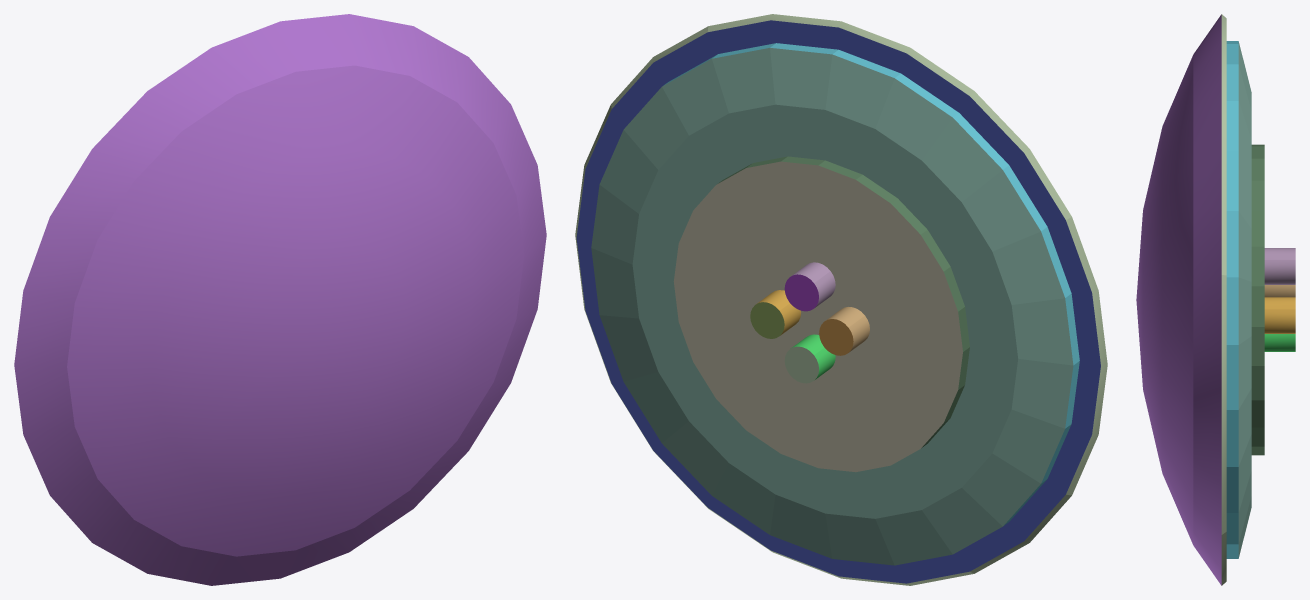
The model's file is module-waapi-01.glb.
The picture shows the model from 3 angles, left to right: view 1: azimuth 30°, elevation 25°; view 2: azimuth 150°, elevation 25°; view 3: azimuth 270°, elevation 25°; orthographic projection. The views are drawn at different scales.
Size of the model in its own units: 1.86 by 1.86 by 0.5145.
